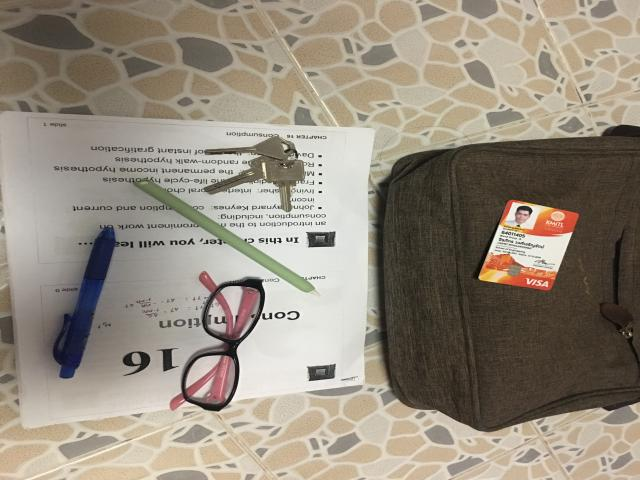Glasses: (170, 278, 265, 411)
Keys: (203, 136, 305, 212)
Pen: (53, 227, 117, 378)
paper: (2, 112, 373, 428)
